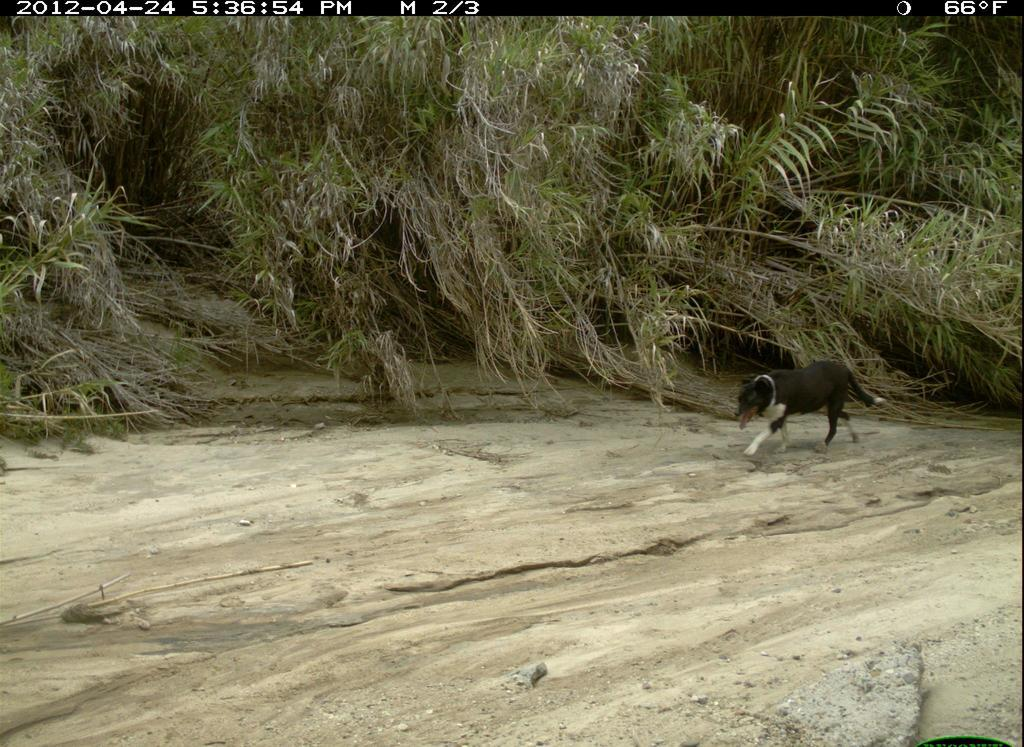dog: (710, 347, 923, 477)
